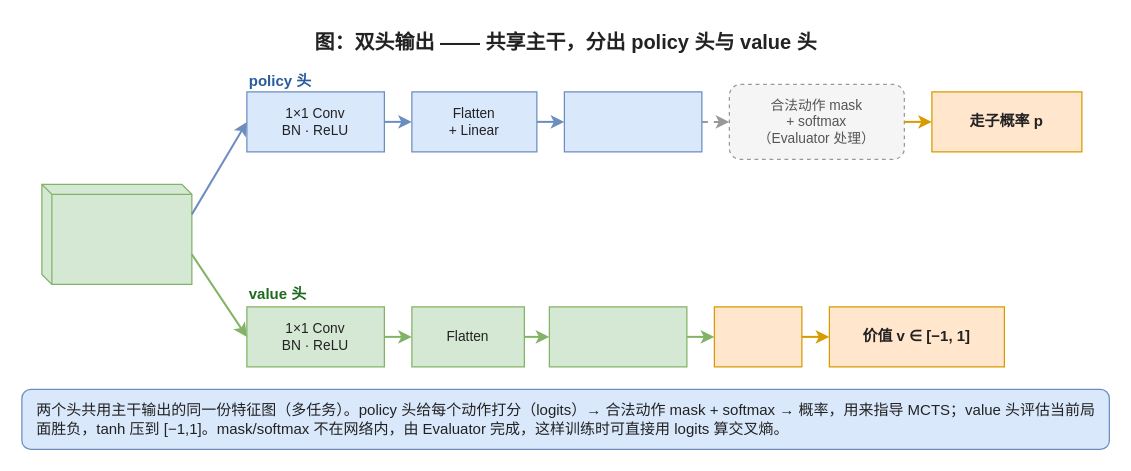
The diagram is 1131 pixels wide and 471 high, and some of its shapes have lost their labels. Each missing label, with the box of its shape:
FC → ReLU → FC: (548, 306, 687, 367)
tanh: (713, 306, 802, 367)
共享特征图 C × 10 × 9: (41, 183, 192, 284)
动作 logits A = 8100: (563, 91, 702, 152)
